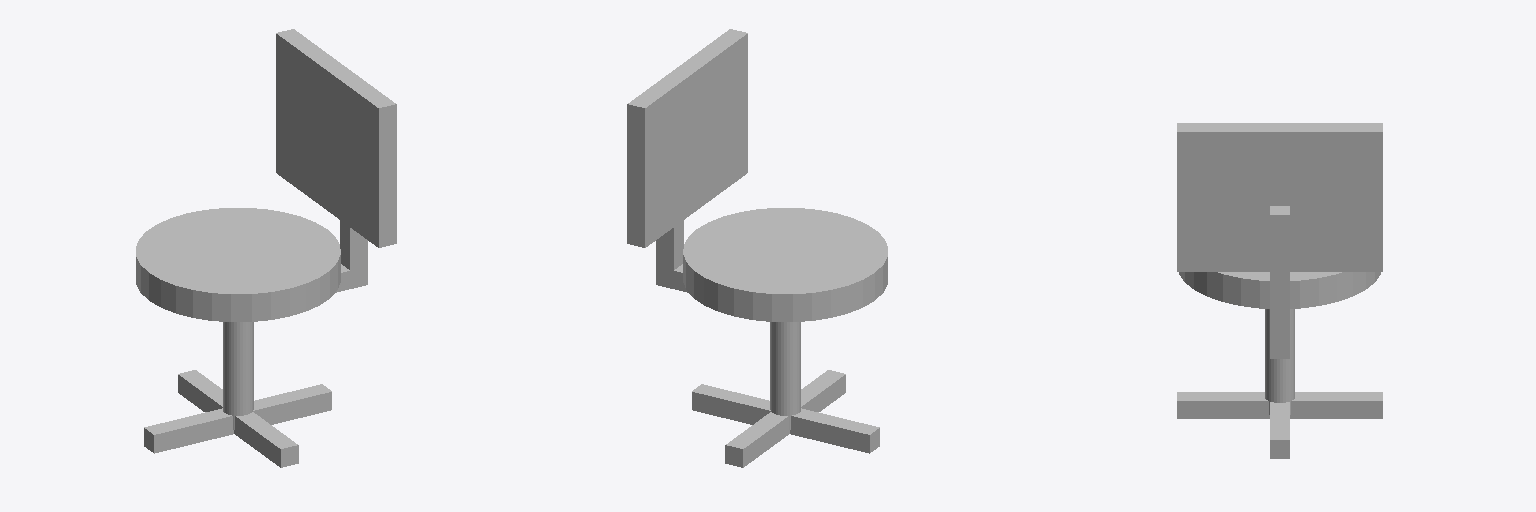
File: chairBackrest.obj
3 renders of one model, left to right at view 1: azimuth 30°, elevation 25°; view 2: azimuth 150°, elevation 25°; view 3: azimuth 270°, elevation 25°, orthographic.
Parts seen in each view (by area): view 1: Cylinder.001, Cube.004, Cube.001, Cube, Cylinder, Cube.003; view 2: Cylinder.001, Cube.004, Cube.001, Cube, Cylinder, Cube.003; view 3: Cube.004, Cylinder.001, Cube, Cube.003, Cylinder, Cube.001.
Boxes of the visible parts, x1,y1,x2,y2 form: Cylinder.001: [136, 208, 340, 321]; Cube.004: [276, 29, 396, 247]; Cube.001: [144, 384, 331, 453]; Cube: [178, 370, 298, 467]; Cylinder: [223, 322, 253, 429]; Cube.003: [340, 220, 367, 283]; Cylinder.001: [683, 208, 887, 321]; Cube.004: [627, 29, 747, 247]; Cube.001: [692, 384, 879, 453]; Cube: [725, 370, 845, 467]; Cylinder: [770, 322, 800, 429]; Cube.003: [656, 220, 683, 283]; Cube.004: [1177, 123, 1382, 271]; Cylinder.001: [1179, 272, 1380, 308]; Cube: [1177, 392, 1382, 418]; Cube.003: [1270, 206, 1289, 354]; Cylinder: [1265, 309, 1294, 414]; Cube.001: [1270, 402, 1289, 458].
Bounding box in the file's own units: 2.4 × 3.6 × 2.